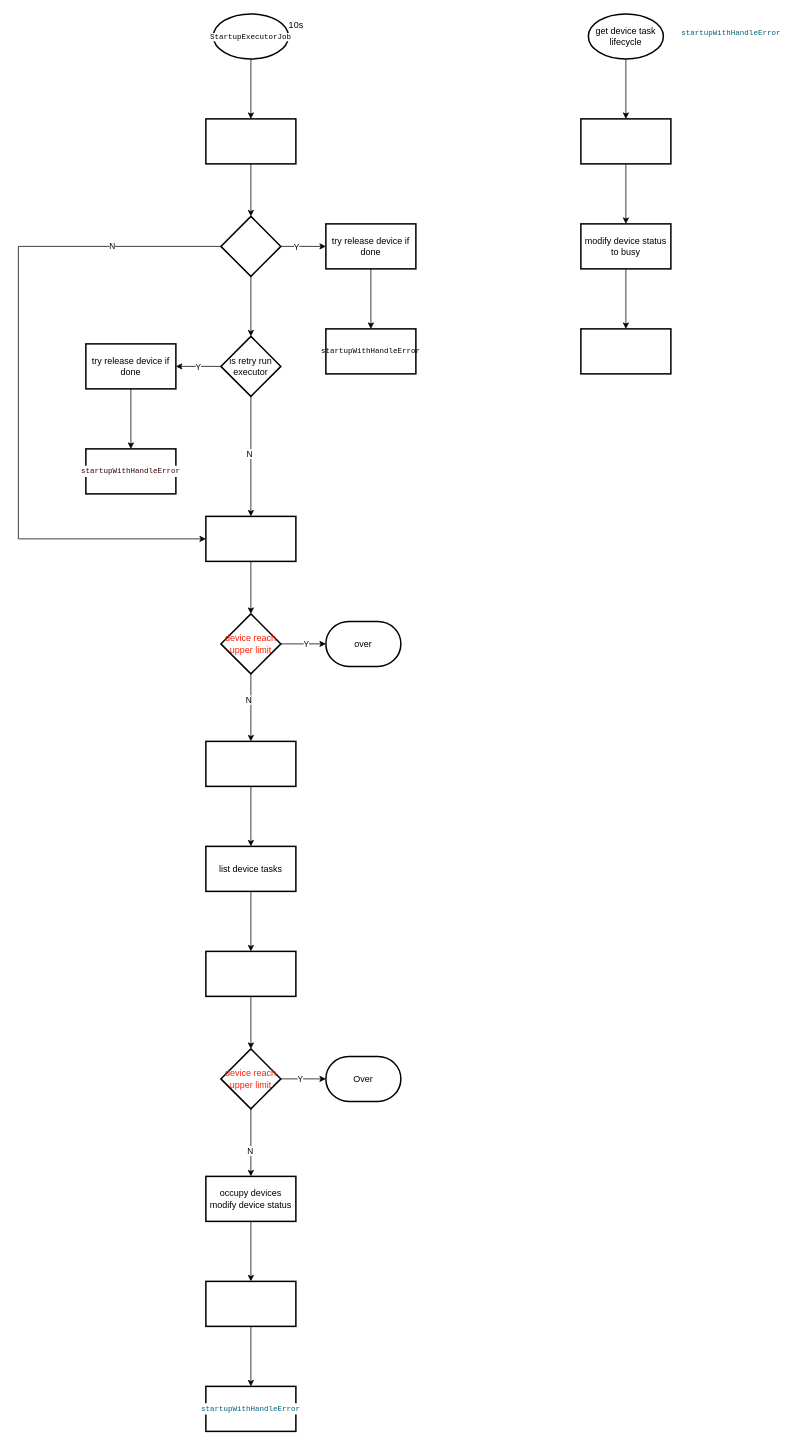
This 804x1445 diagram has some shape labels left out. The shapes that lost their labels are listed below. From the top down, each one's box as (x1, y1, x2, y2) in pixels, then its label:
(205, 118, 296, 164): StartupExecutorServiceV2.startup
(580, 118, 671, 164): added to lifecycle manager
(220, 215, 281, 277): is run latest executor
(580, 328, 671, 374): startup test by project type
(205, 515, 296, 562): startupExecutorByPeekExecutorCase
(205, 740, 296, 787): find idle devices
(205, 950, 296, 997): match idle devices&device tasks
(205, 1280, 296, 1327): Modify
